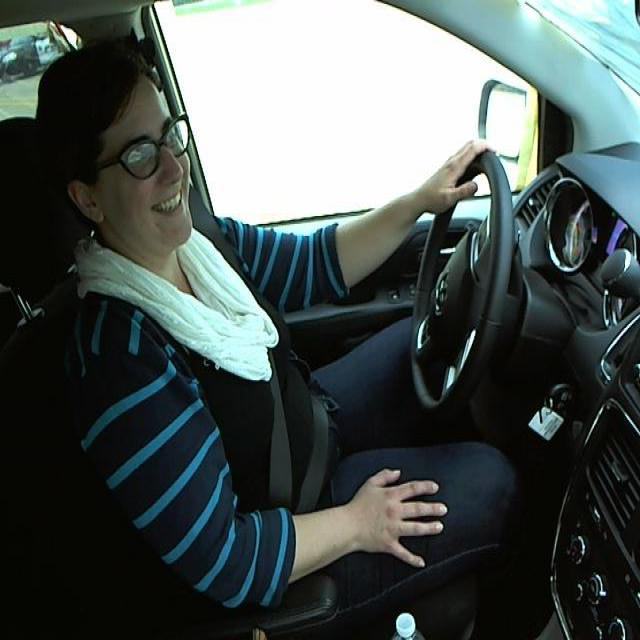seatbelt: (259, 315, 339, 505)
